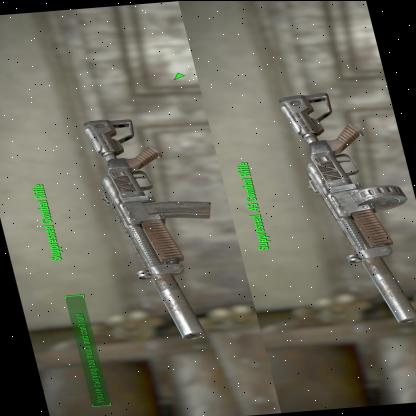rifle: (79, 106, 240, 343), (277, 73, 416, 325)
